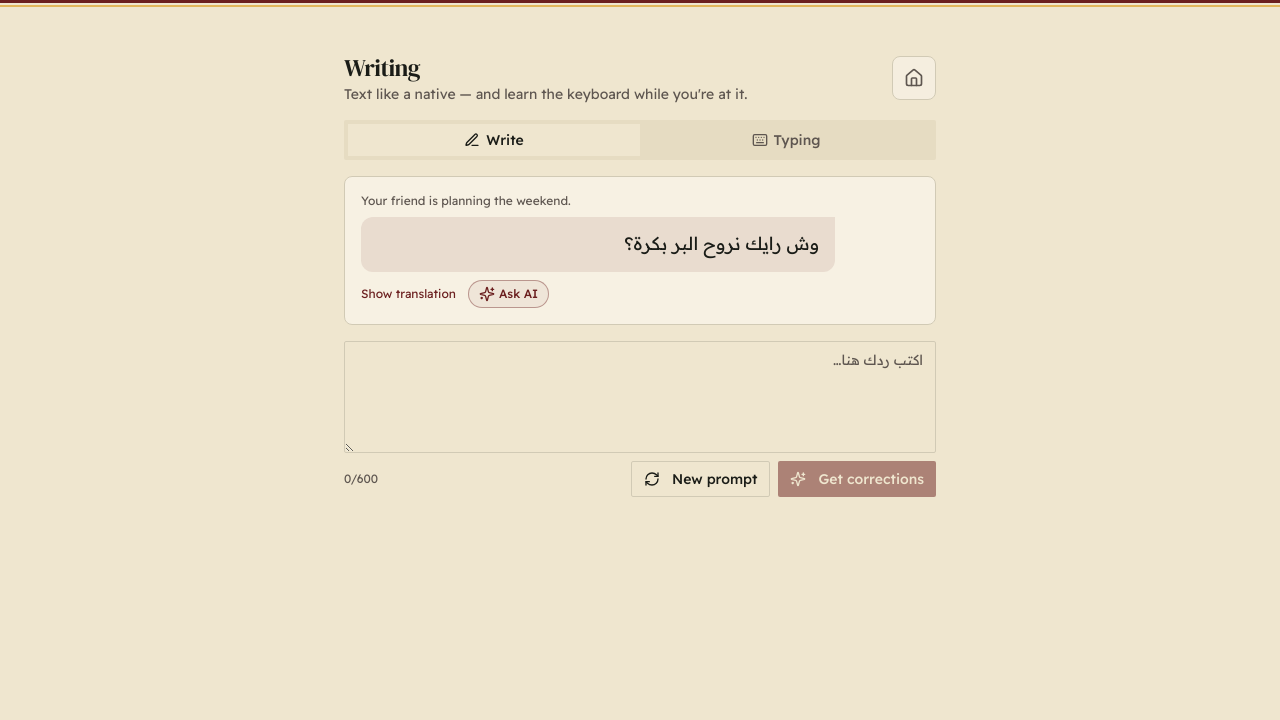
Test case: WritingPractice — write tab › submits the reply for review and renders each correction
The width and height of the screenshot is (1280, 720).
Expected: the text "وش رايك نروح البر بكرة؟" is shown, [624,232,819,255]
Type "ماذا رأيك" into the text box with placeholder "اكتب ردك هنا…".
click(640, 397); type("ماذا رأيك")  # box [344,341,936,453]
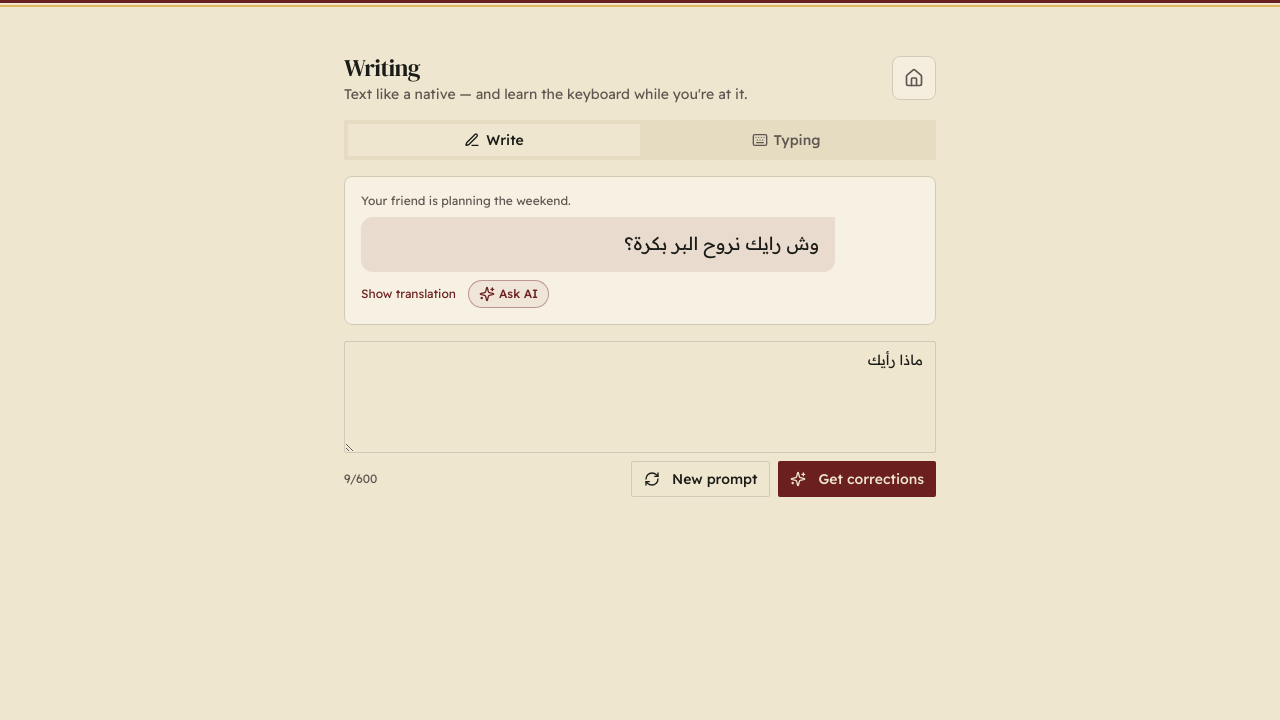
Click the button "Get corrections".
click(857, 479)  # box [778,461,936,497]
(page scrolled)
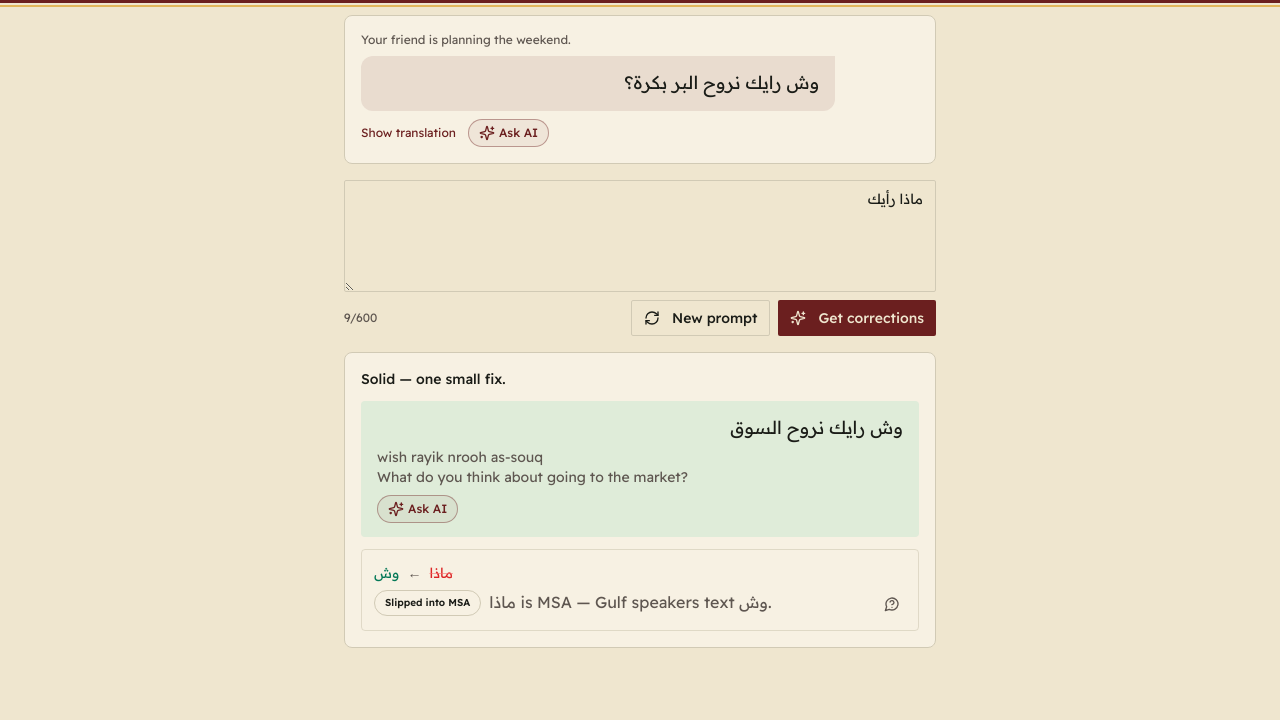
Expected: the text "Solid — one small fix." is shown, [361,370,506,388]
Expected: the text "وش رايك نروح السوق" is shown, [730,416,903,439]
Expected: the text "ماذا is MSA — Gulf speakers text وش." is shown, [489,590,772,615]
